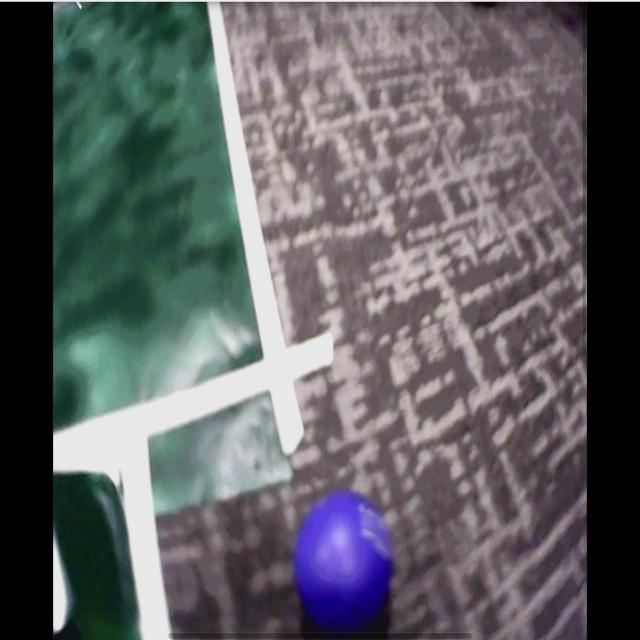ball: (297, 491, 393, 631)
